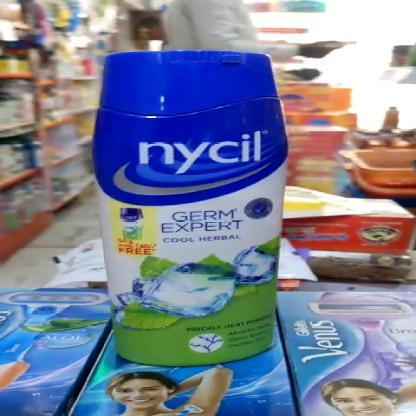Nycil Prickly Heat Powder: (93, 51, 292, 366)
